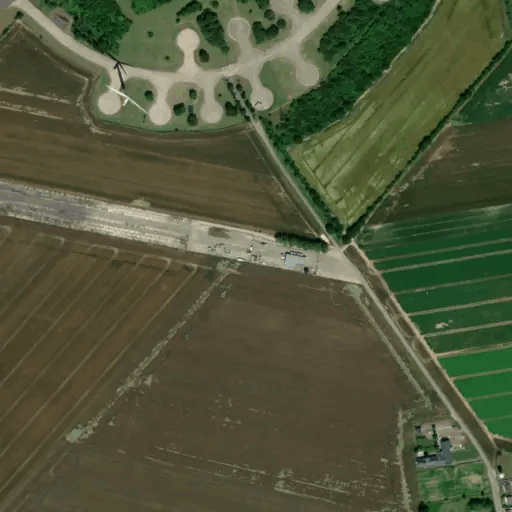wt: (92, 44, 152, 124)
